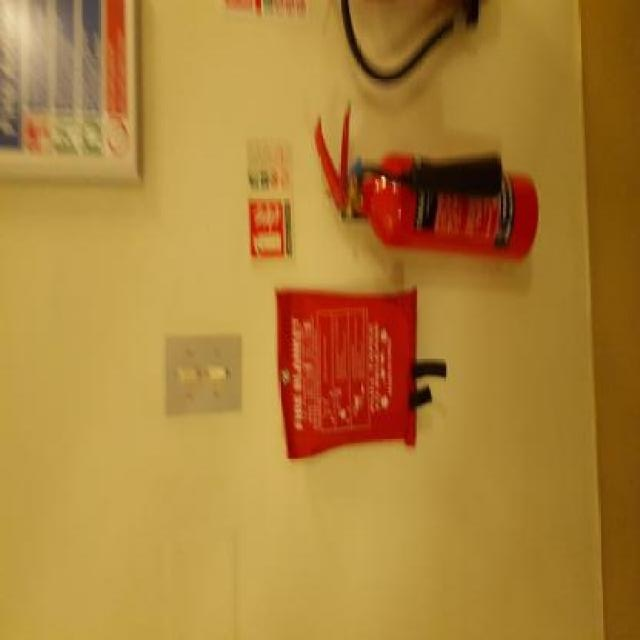fire extinguisher: (313, 98, 541, 258)
